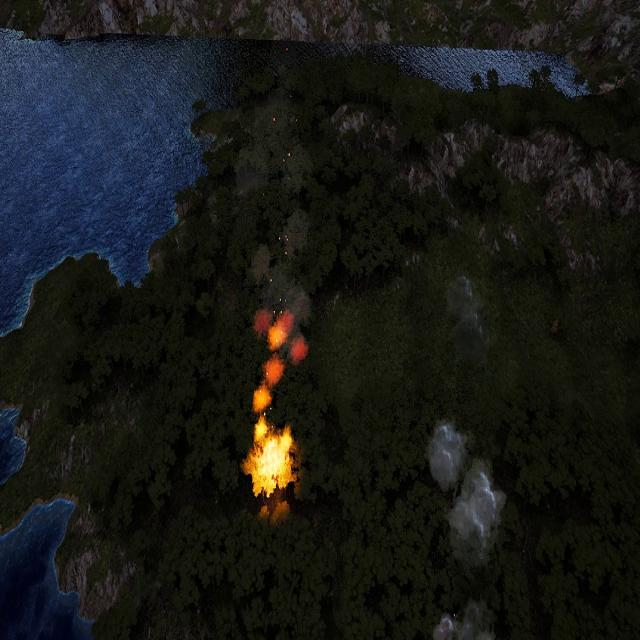fire: (252, 417, 294, 496)
smoke: (247, 207, 312, 414), (424, 422, 504, 568), (444, 272, 488, 364), (430, 598, 500, 640)
